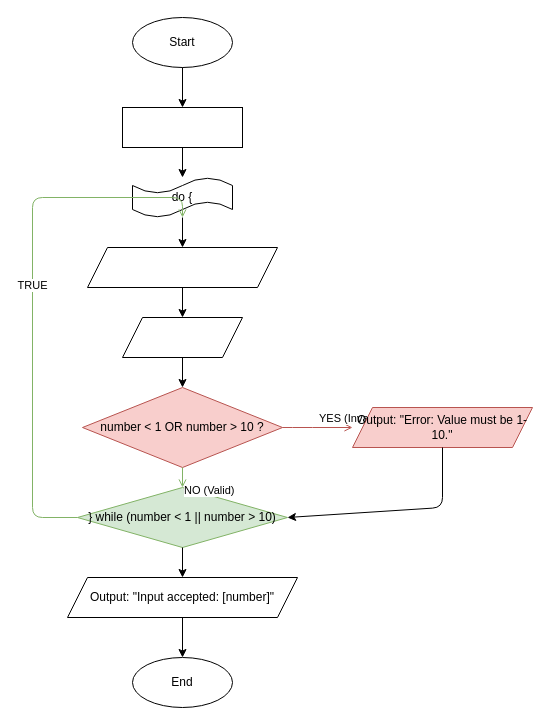
Image size: 550x725. Some labels were removed from this diagram. The box of each missing label's shape, as (x1, y1, x2, y2) in pixels:
Initialize int number: (122, 106, 242, 148)
Input: number: (122, 316, 242, 358)
Output: "Enter a number (1-10): ": (86, 246, 278, 288)
